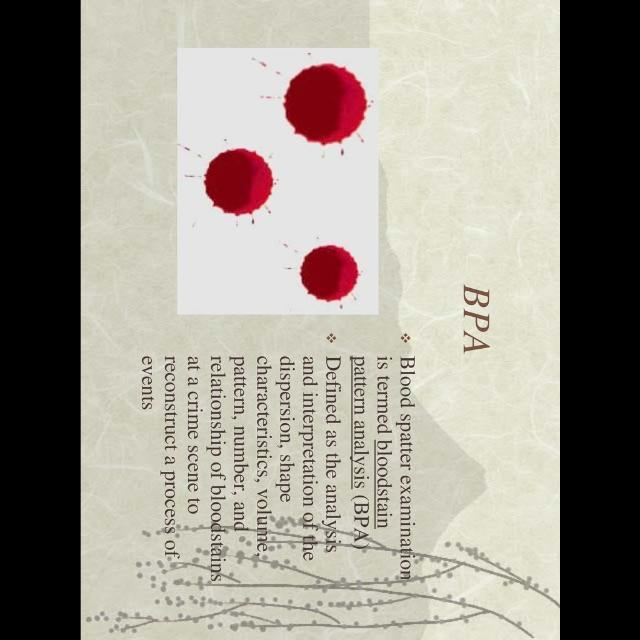blood: (284, 63, 369, 146), (204, 148, 273, 216), (299, 244, 358, 302)
